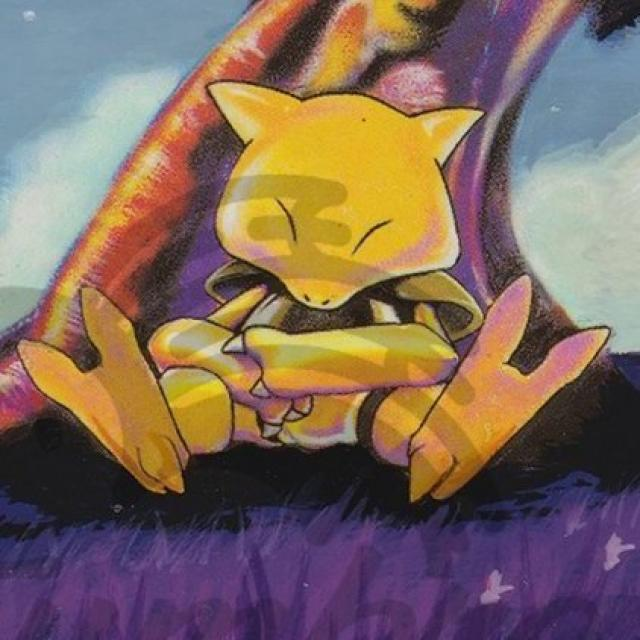Abra: (184, 91, 492, 469)
